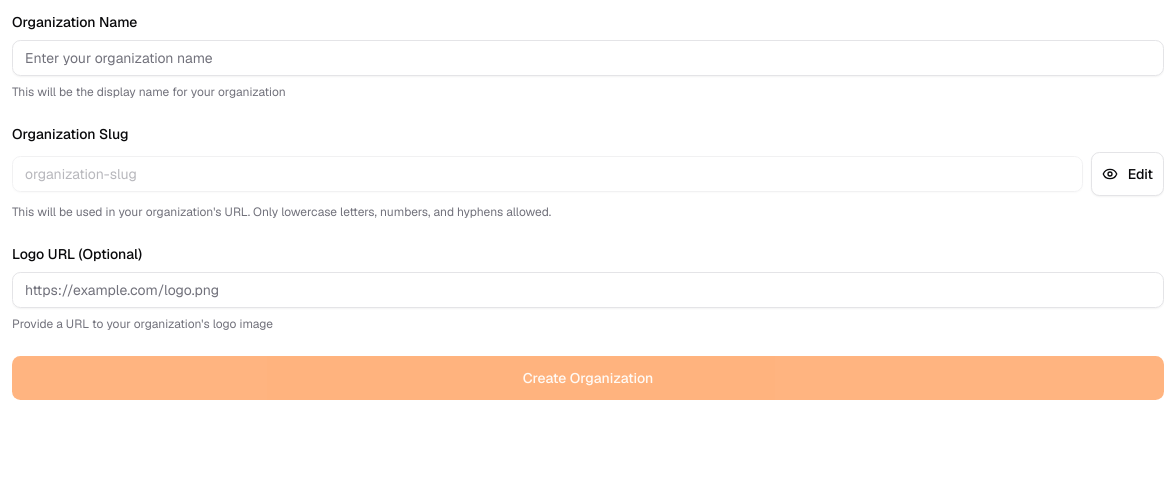
CreateorganizationForm - Basic Functionality › Form Validation › shows validation error for invalid characters in name
Type "Test@#$%" into the field labelled "Organization Name".
click(588, 58); type("Test@#$%")  # box [12,40,1164,76]
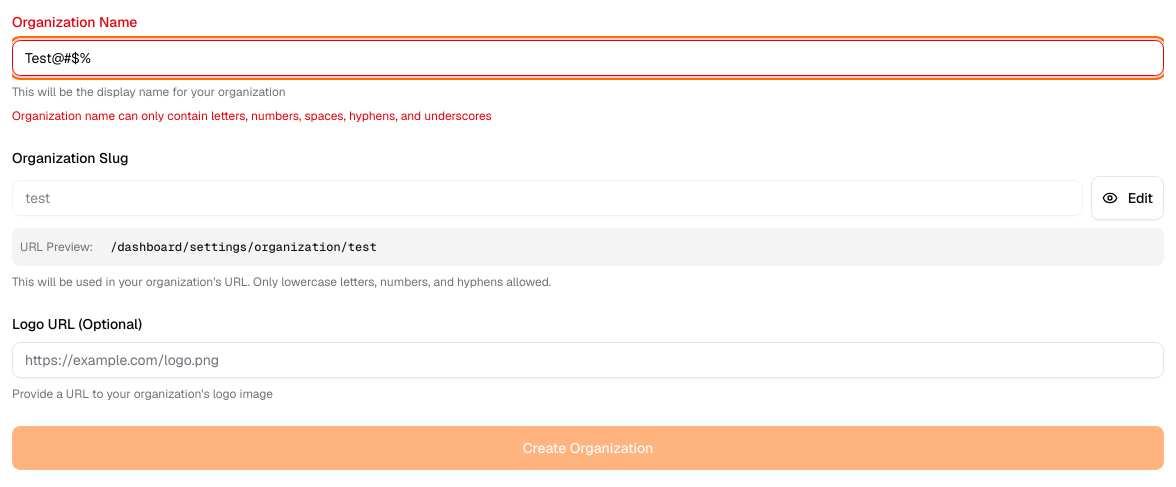
Check: the text "can only contain letters, numbers, spaces, hyphens, and underscores" is shown, box [12,108,492,124]
